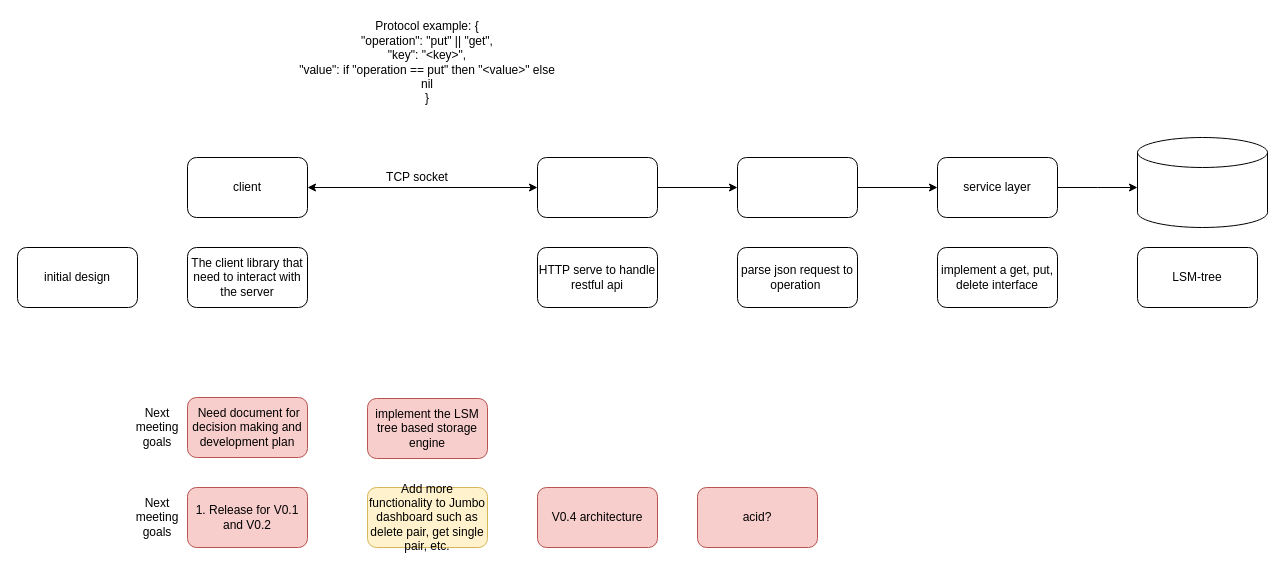
The diagram is 1285 pixels wide and 570 high, and some of its shapes have lost their labels. The shapes that lost their labels are listed below. From the top down, each one's centre as x and y in pixels, then its label:
At (597,187): "server layer".
At (797,187): "protocol parser".
At (1202,182): "persistence".
